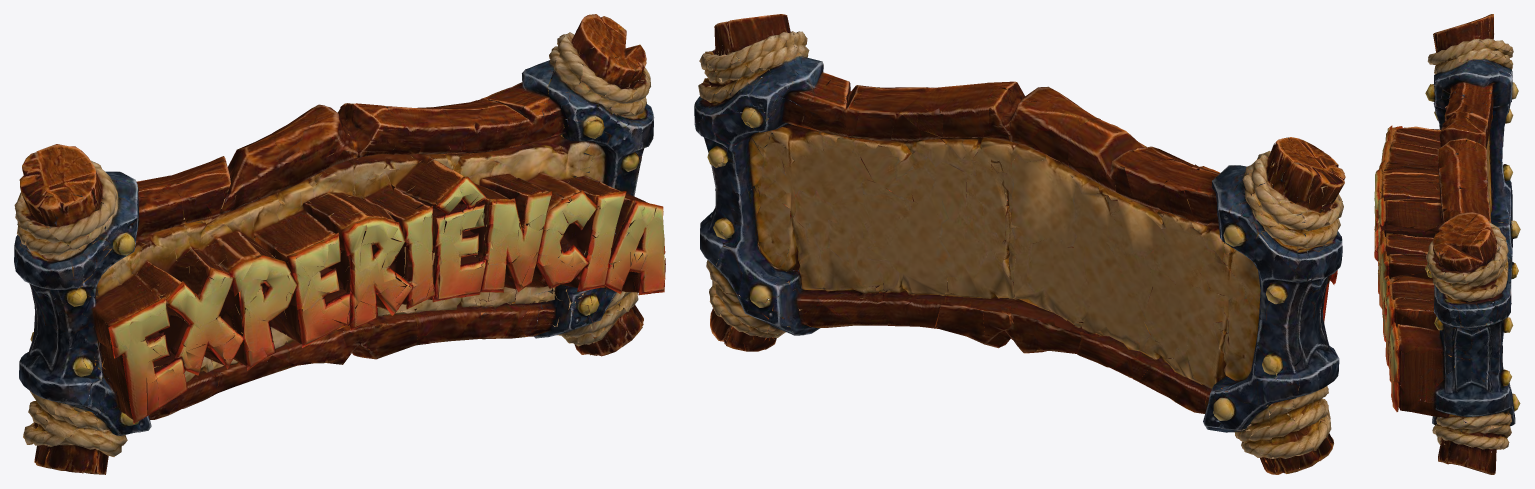
File: title_experiencia.glb
The picture shows the model from 3 angles, left to right: view 1: azimuth 30°, elevation 25°; view 2: azimuth 150°, elevation 25°; view 3: azimuth 270°, elevation 25°; orthographic projection. The views are drawn at different scales.
Parts seen in each view (by area): view 1: Mesh_0; view 2: Mesh_0; view 3: Mesh_0.
Part boxes in pixels (x1=…): Mesh_0: x1=14, y1=14, x2=665, y2=474; Mesh_0: x1=694, y1=14, x2=1345, y2=474; Mesh_0: x1=1374, y1=14, x2=1520, y2=474.
Bounding box in the file's own units: 1.9 × 0.9537 × 0.4944.
1 material, 1 textured.
